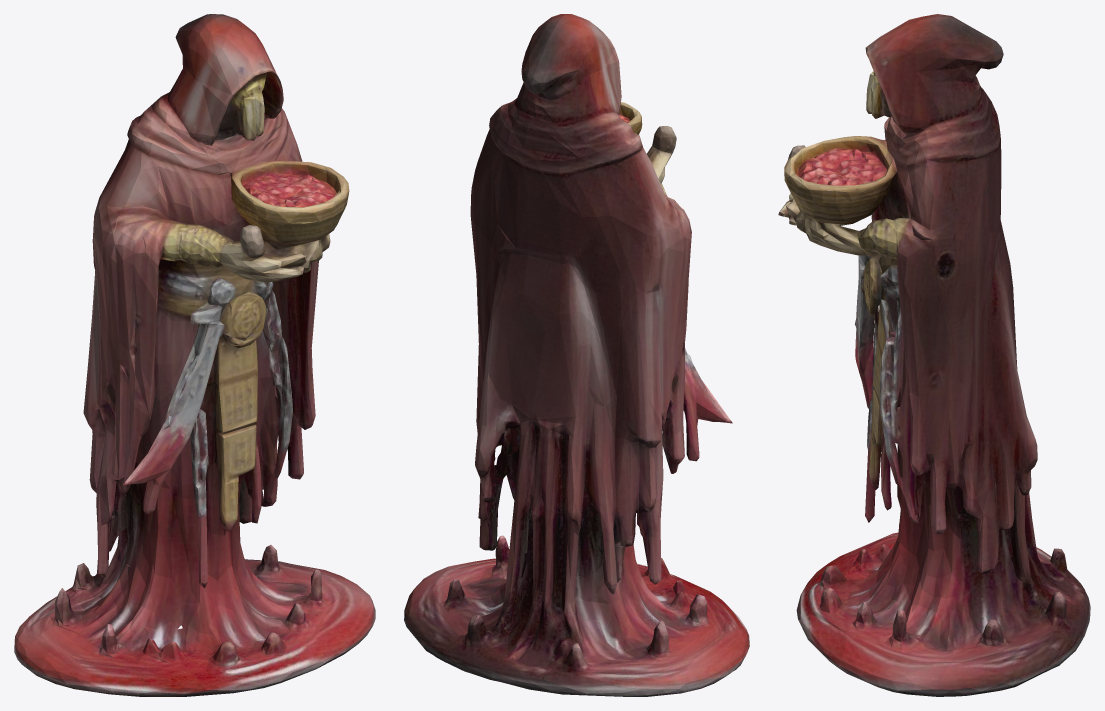
The model's file is bloodAltarWraith.glb.
The picture shows the model from 3 angles, left to right: view 1: azimuth 30°, elevation 25°; view 2: azimuth 150°, elevation 25°; view 3: azimuth 270°, elevation 25°; orthographic projection. The views are drawn at different scales.
Parts seen in each view (by area): view 1: world; view 2: world; view 3: world.
Part boxes in pixels (<box>): world: <box>14,14,375,696</box>; world: <box>404,14,749,696</box>; world: <box>778,14,1090,696</box>.
Bounding box in the file's own units: 0.5253 × 0.9499 × 0.4373.
1 material, 1 textured.
